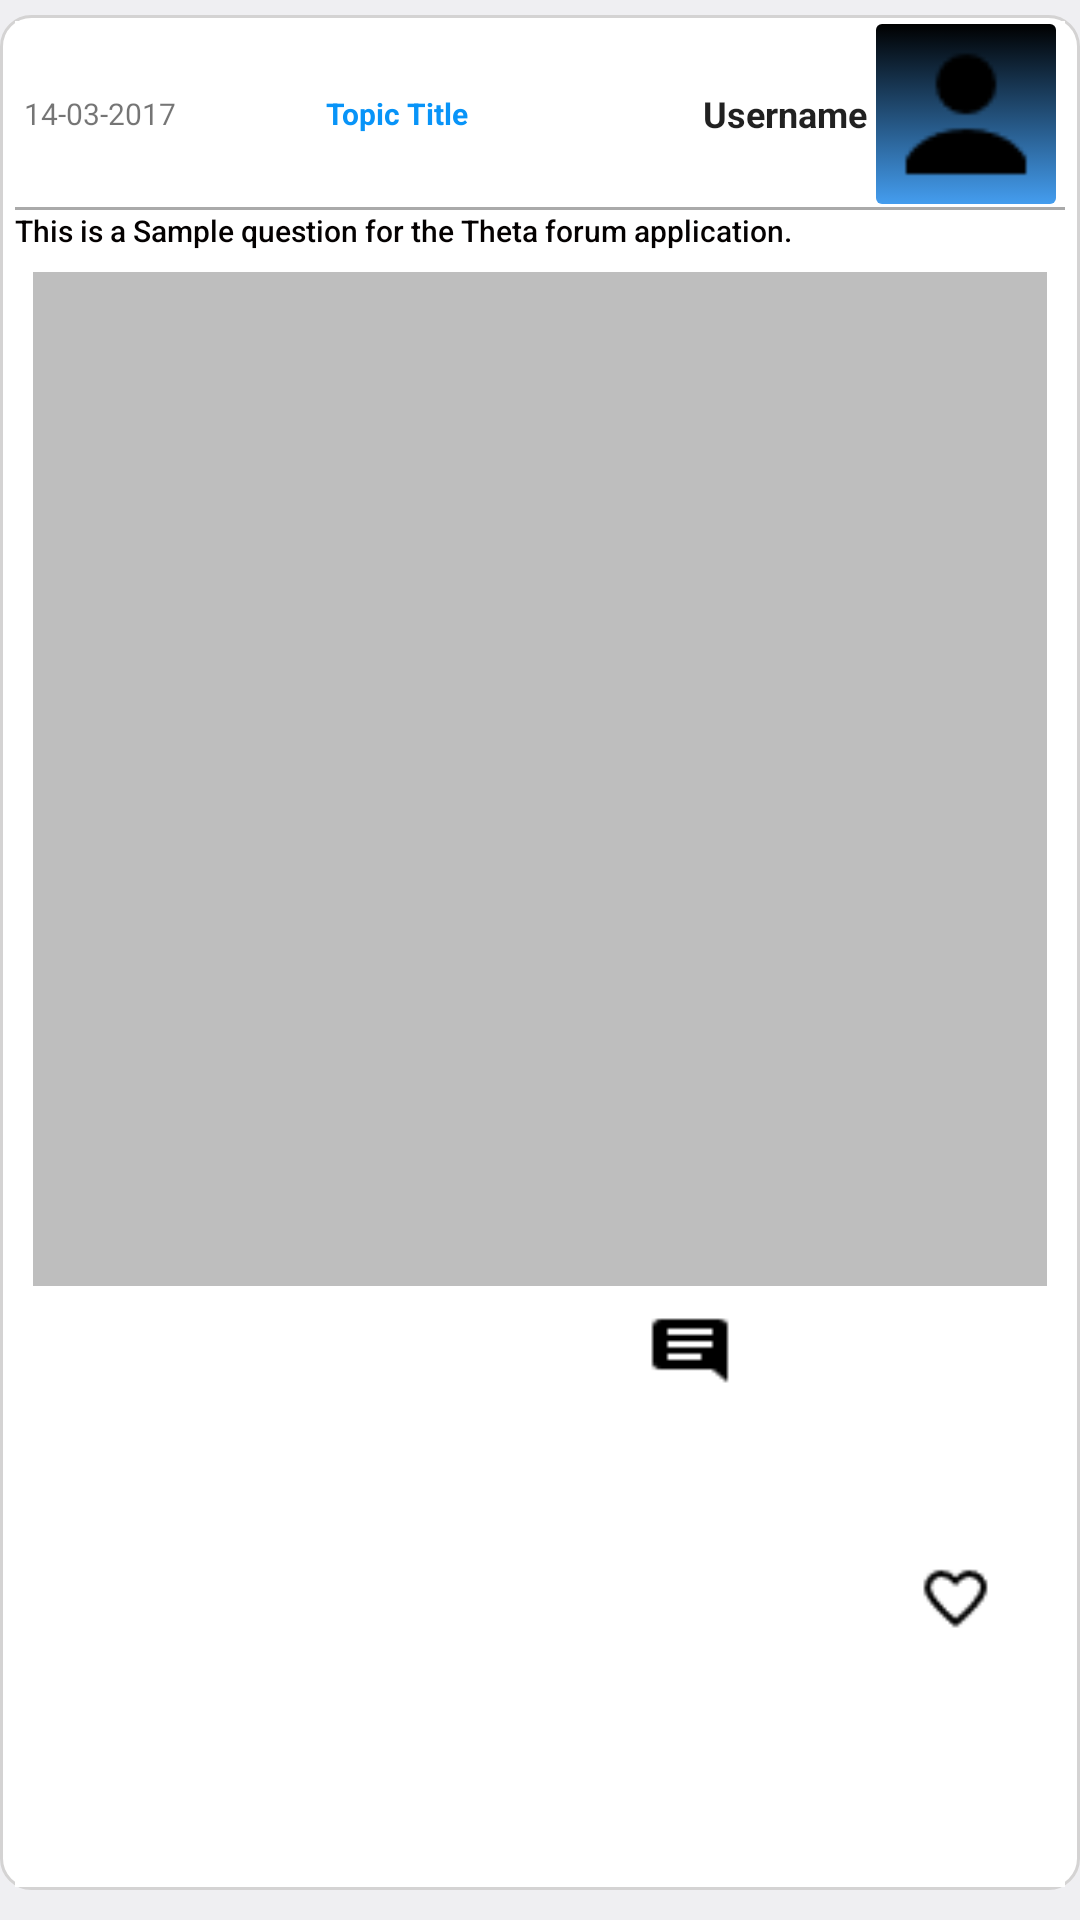

Icons on this 1080w x 1920h Android screen, each with the point to tap as (x=x, y=y):
comments: (x=690, y=1350)
like: (x=955, y=1598)
